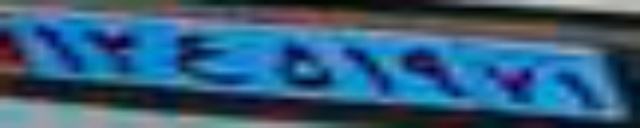1: (340, 44, 393, 94), (33, 24, 84, 72), (556, 66, 609, 109)
2: (87, 29, 148, 75)
5: (271, 39, 336, 88)
7: (478, 64, 541, 106)
9: (398, 49, 465, 100)
ain: (167, 33, 254, 84)
